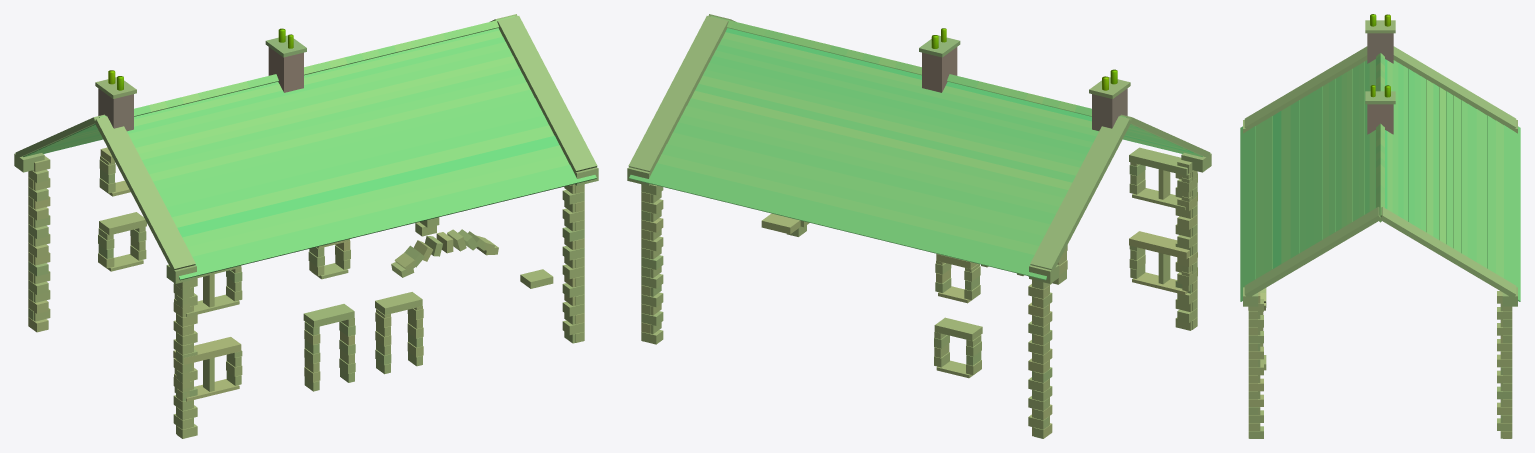
File: SM_Bld_234_Stone.glb
The picture shows the model from 3 angles, left to right: view 1: azimuth 30°, elevation 25°; view 2: azimuth 150°, elevation 25°; view 3: azimuth 270°, elevation 25°; orthographic projection. The views are drawn at different scales.
Parts seen in each view (by area): view 1: SM_Bld_234_Stone; view 2: SM_Bld_234_Stone; view 3: SM_Bld_234_Stone.
Part boxes in pixels (<box>): SM_Bld_234_Stone: <box>14,14,598,438</box>; SM_Bld_234_Stone: <box>627,14,1211,438</box>; SM_Bld_234_Stone: <box>1240,14,1520,438</box>.
Bounding box in the file's own units: 14.23 × 9.83 × 9.58.
